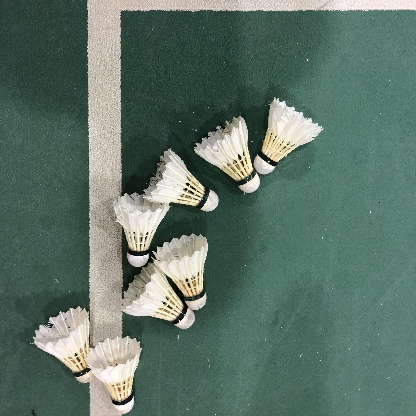ball_single: (253, 97, 323, 175), (194, 116, 260, 193), (121, 263, 195, 329), (143, 149, 219, 212), (33, 307, 94, 383), (86, 336, 141, 414), (153, 234, 208, 310), (114, 192, 169, 267)
